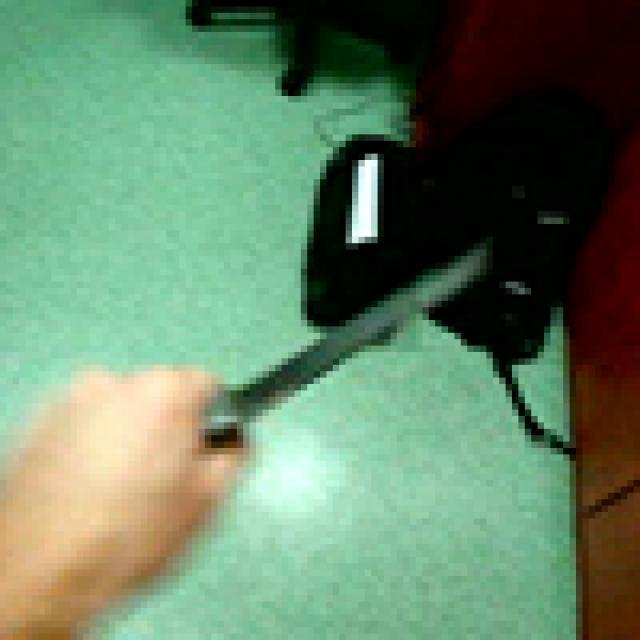knife: (115, 230, 493, 480)
